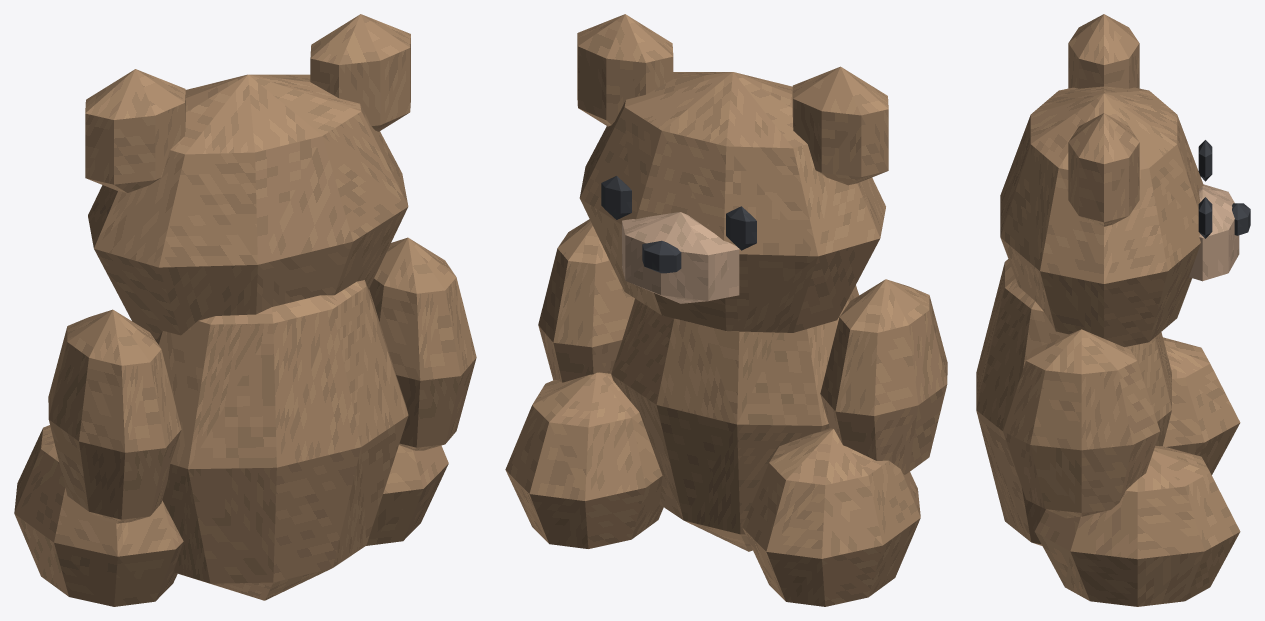
File: teddy_bear.glb
3 views of the same model, side by side, from view 1: azimuth 30°, elevation 25°; view 2: azimuth 150°, elevation 25°; view 3: azimuth 270°, elevation 25° (orthographic). The views are drawn at different scales.
Parts seen in each view (by area): view 1: block_stuffed body, block_head, block_arm (×2), block_paw (×2), block_ear (×2); view 2: block_head, block_paw (×2), block_stuffed body, block_arm (×2), block_ear (×2), block_muzzle, block_eye (×2), block_nose; view 3: block_head, block_paw (×2), block_arm, block_stuffed body, block_ear (×2), block_muzzle, block_eye (×2), block_nose.
Part boxes in pixels (x1=…): block_stuffed body: x1=155, y1=280, x2=408, y2=600; block_head: x1=88, y1=74, x2=408, y2=339; block_arm (×2): x1=48, y1=237, x2=476, y2=523; block_paw (×2): x1=14, y1=425, x2=448, y2=606; block_ear (×2): x1=85, y1=14, x2=410, y2=192; block_head: x1=579, y1=72, x2=885, y2=332; block_paw (×2): x1=505, y1=372, x2=920, y2=606; block_stuffed body: x1=611, y1=285, x2=859, y2=551; block_arm (×2): x1=538, y1=219, x2=947, y2=474; block_ear (×2): x1=577, y1=14, x2=888, y2=185; block_muzzle: x1=622, y1=212, x2=739, y2=303; block_eye (×2): x1=601, y1=176, x2=756, y2=250; block_nose: x1=642, y1=240, x2=681, y2=273; block_head: x1=1000, y1=86, x2=1203, y2=347; block_paw (×2): x1=1034, y1=337, x2=1240, y2=606; block_arm: x1=1003, y1=329, x2=1160, y2=518; block_stuffed body: x1=976, y1=259, x2=1171, y2=545; block_ear (×2): x1=1068, y1=14, x2=1139, y2=226; block_muzzle: x1=1189, y1=184, x2=1239, y2=281; block_eye (×2): x1=1198, y1=140, x2=1212, y2=238; block_nose: x1=1232, y1=203, x2=1250, y2=235.
Bounding box in the file's own units: 0.2057 × 0.2711 × 0.1369.
1 material, 1 textured.
